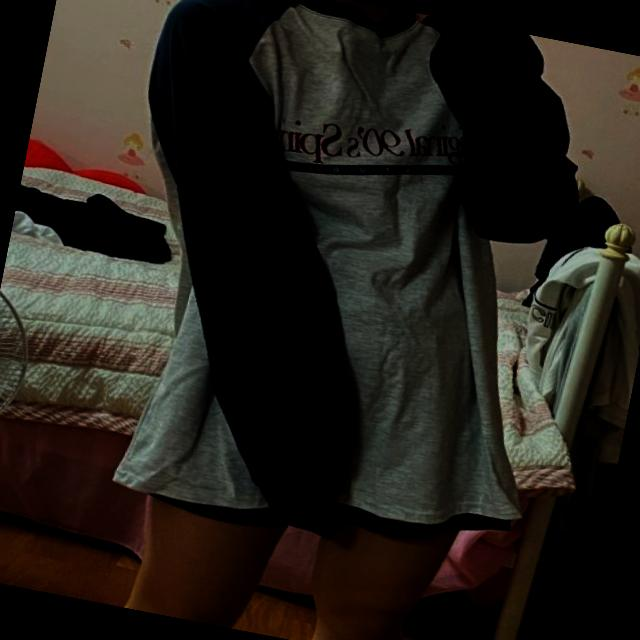longsleeve: (81, 0, 611, 561)
shortpants: (107, 296, 536, 574)
